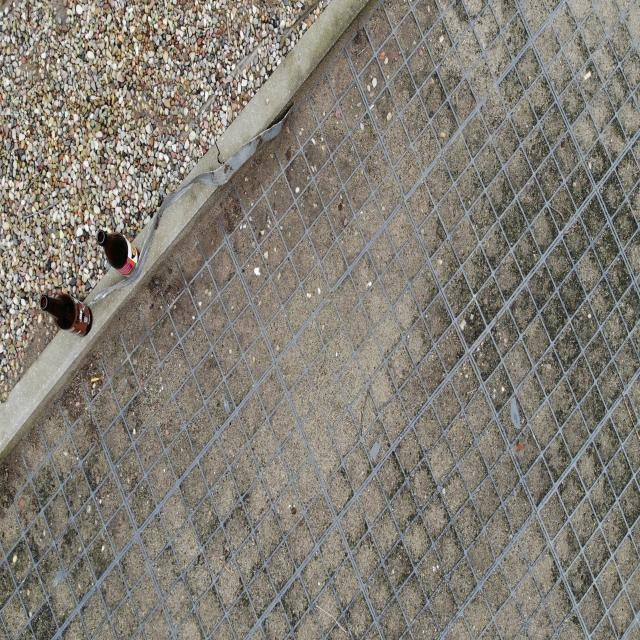rubbish: (40, 293, 93, 337), (98, 231, 140, 282)
